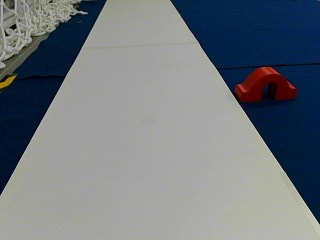bridge: (237, 67, 295, 100)
